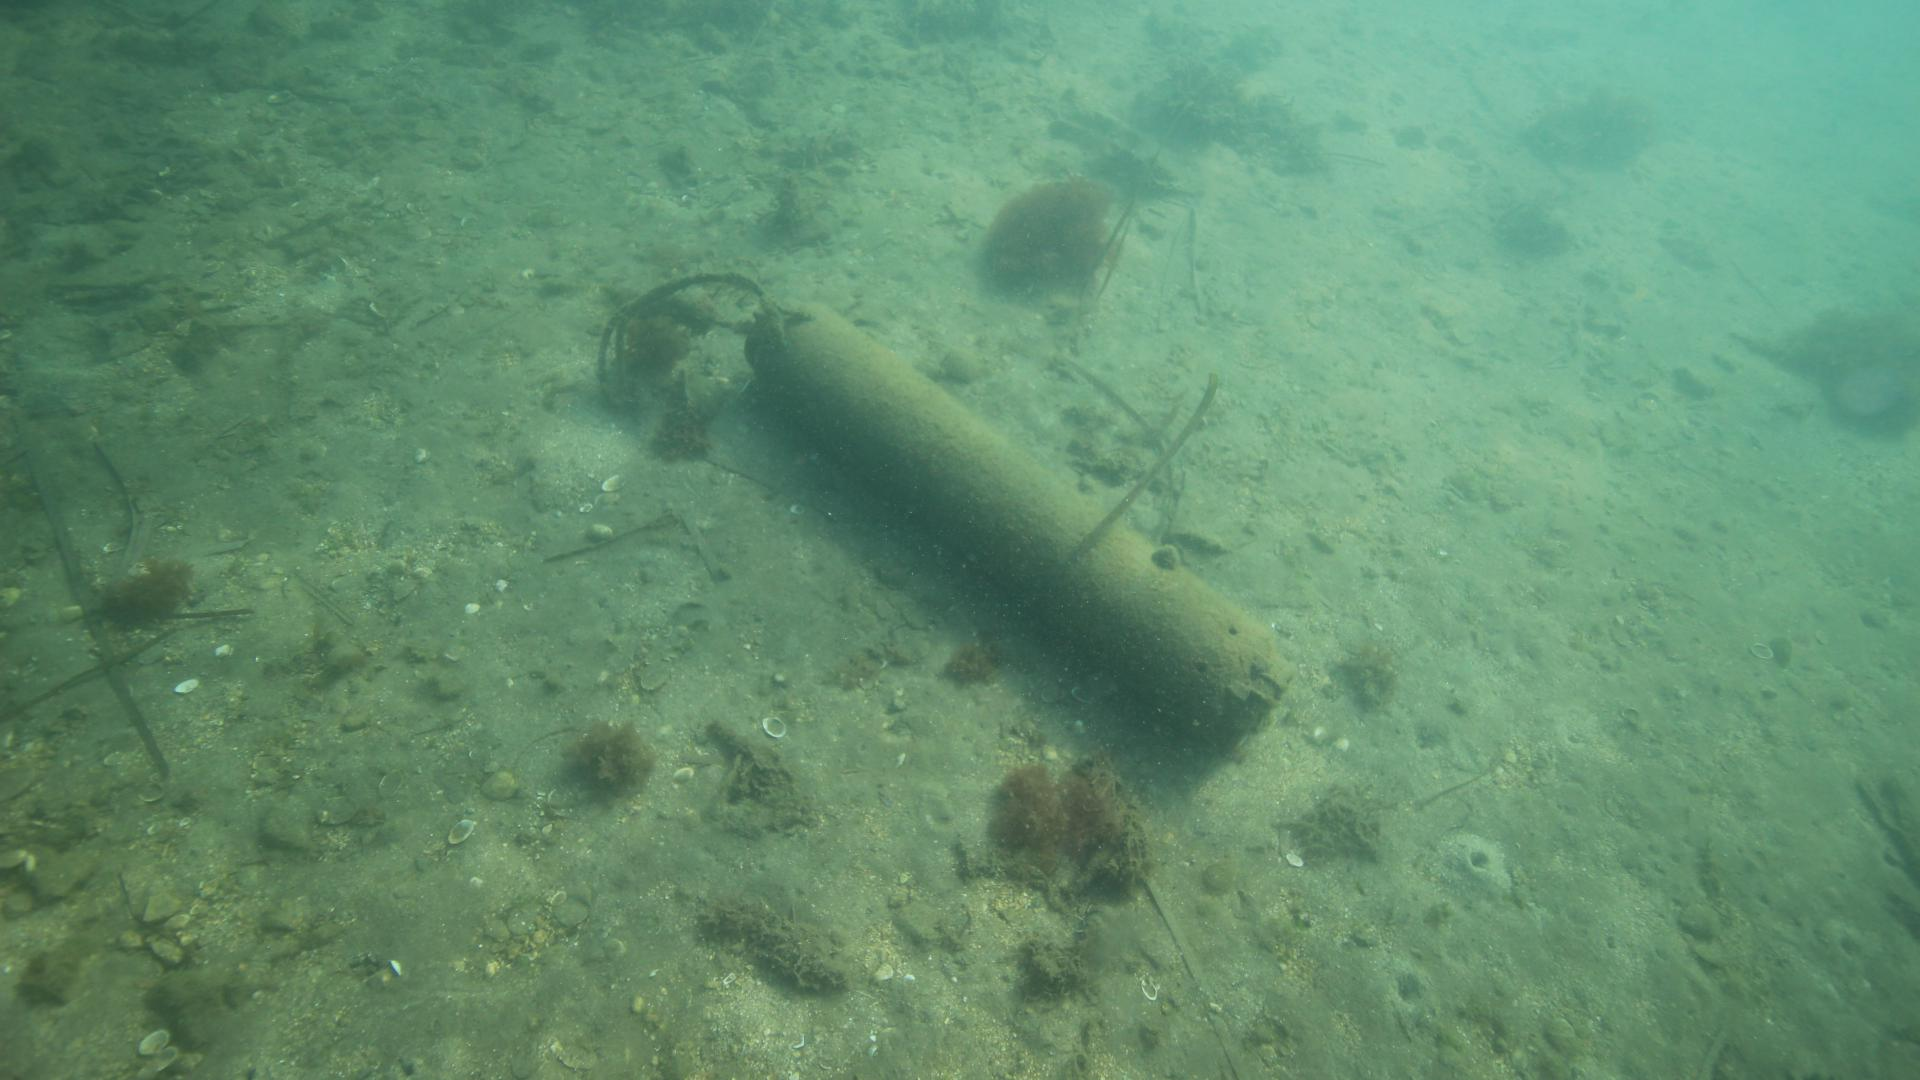bundle of ropes: (595, 266, 814, 409)
eel fish trap: (746, 295, 1288, 745)
